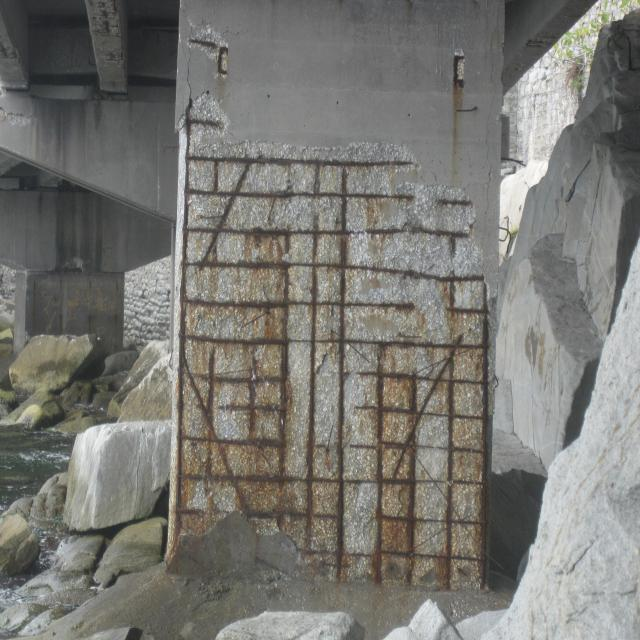Rebar: (168, 92, 494, 595), (184, 18, 231, 82), (86, 0, 122, 58), (451, 46, 467, 90), (0, 34, 20, 63), (56, 272, 64, 334), (86, 275, 93, 338), (112, 278, 118, 350), (499, 214, 514, 242), (31, 273, 37, 335), (456, 104, 479, 115)
vertical crack: (480, 0, 503, 243), (178, 26, 195, 122)
